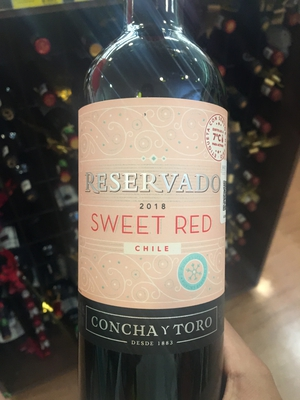reservado sweet red: (71, 8, 236, 400)
